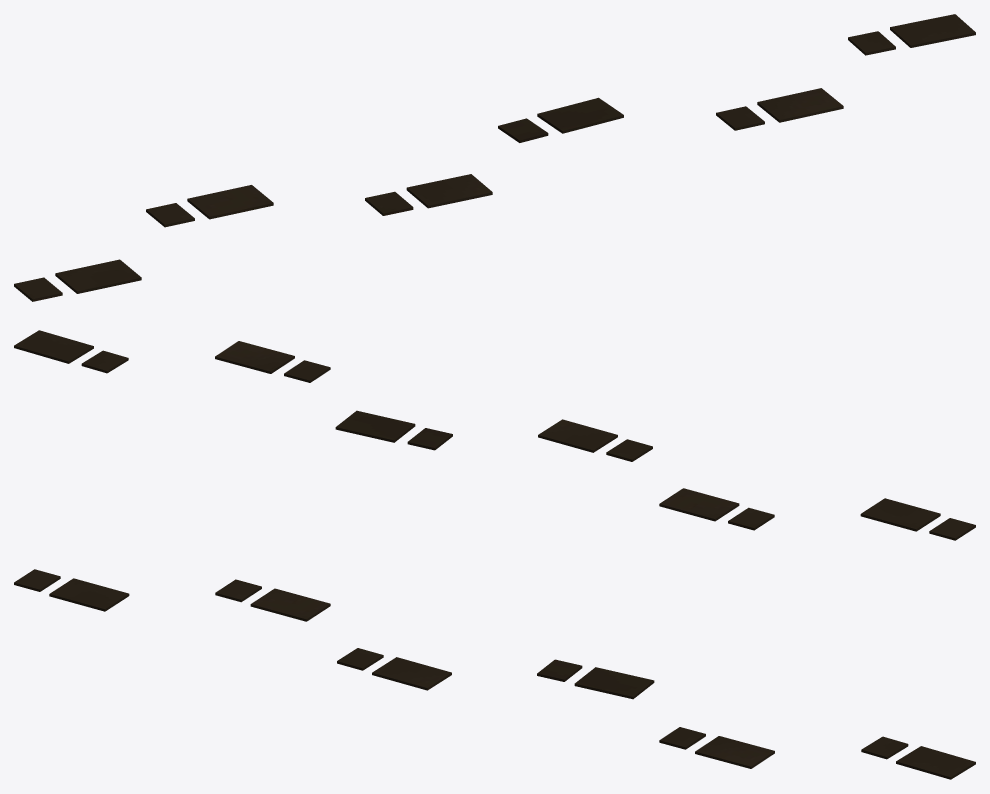
Rendered from footprints_mud_idle.glb.
The picture shows the model from 3 angles, top to bottom: view 1: azimuth 30°, elevation 25°; view 2: azimuth 150°, elevation 25°; view 3: azimuth 330°, elevation 25°; orthographic projection. The views are drawn at different scales.
Visible parts, largest first — view 1: footprints_mud; view 2: footprints_mud; view 3: footprints_mud.
Boxes of the visible parts, x1=… form: footprints_mud: x1=14, y1=14, x2=975, y2=301; footprints_mud: x1=14, y1=330, x2=975, y2=540; footprints_mud: x1=14, y1=569, x2=975, y2=779.
Bounding box in the file's own units: 2.36 × 0.006 × 0.2915.
Materials: 1 (1 with a texture image).
